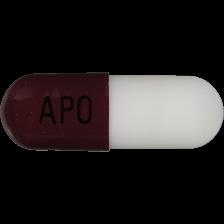60505-0016: (0, 0, 224, 224)
